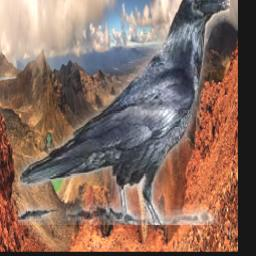Crow: (19, 0, 231, 225)
